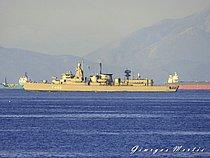MIL_Ship: (20, 60, 180, 93)
